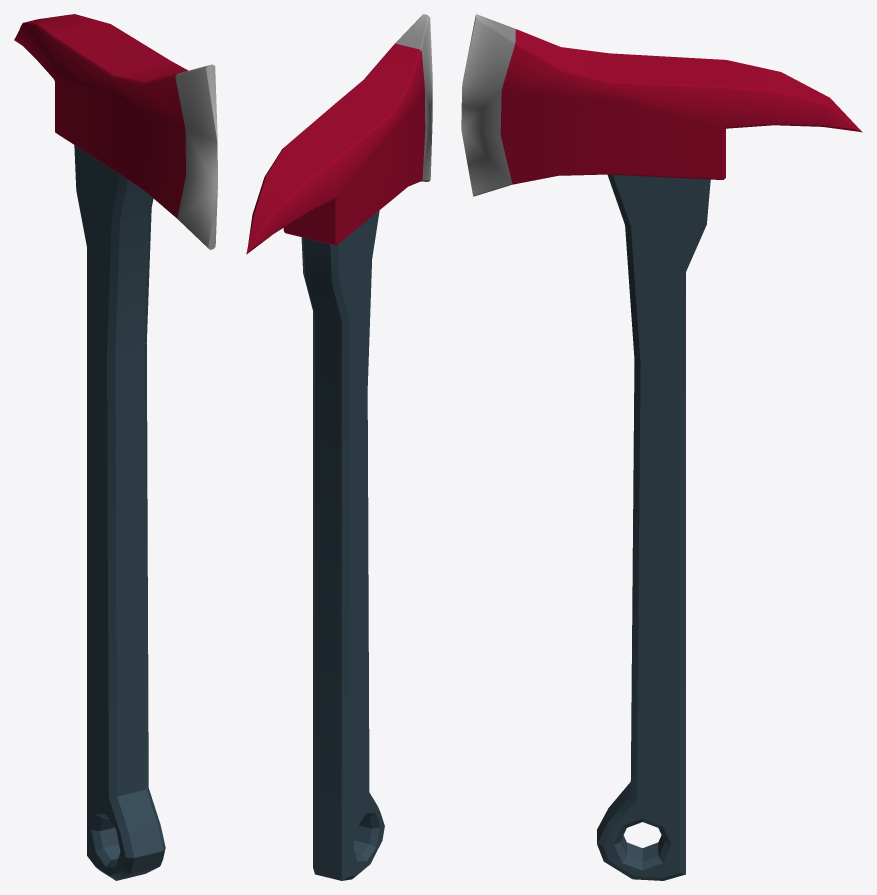
Rendered from Axe.fbx.
3 renders of one model, left to right at view 1: azimuth 30°, elevation 25°; view 2: azimuth 150°, elevation 25°; view 3: azimuth 270°, elevation 25°, orthographic. The views are drawn at different scales.
Visible parts, largest first — view 1: Axe; view 2: Axe; view 3: Axe.
Boxes of the visible parts, left/top/right/bottom form: Axe: left=14, top=14, right=217, bottom=880; Axe: left=246, top=14, right=432, bottom=880; Axe: left=461, top=14, right=862, bottom=880.
Size of the model in its own units: 10.55 by 142 by 60.02.
1 material, 1 textured.
